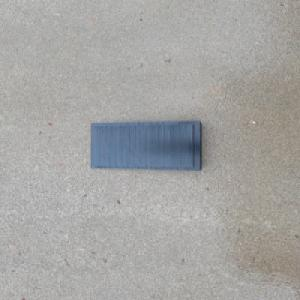PlasticPart: (89, 119, 203, 171)
